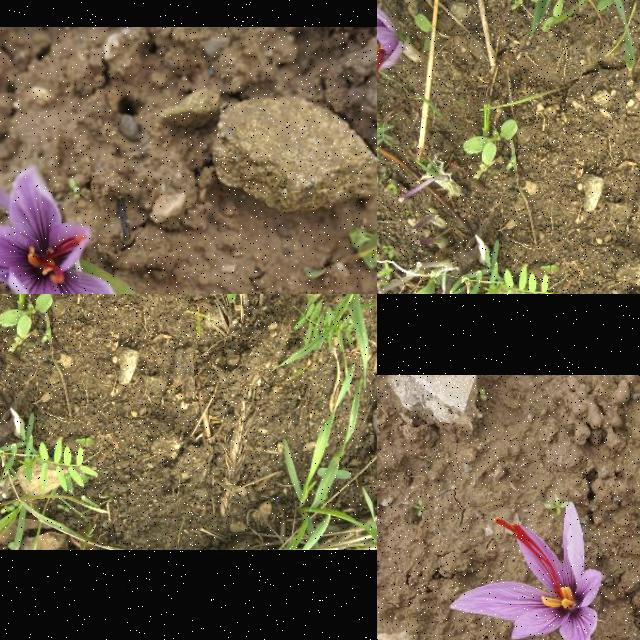flower: (449, 500, 604, 640), (0, 170, 123, 294), (377, 0, 403, 90)
